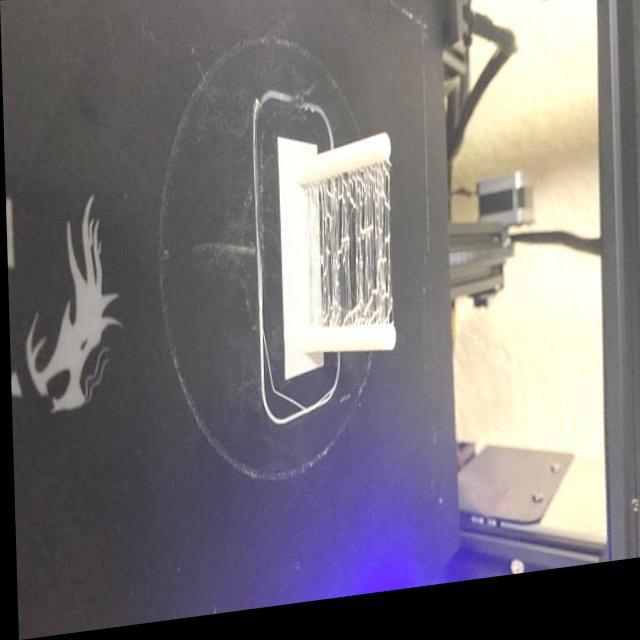stringing: (303, 158, 392, 340)
